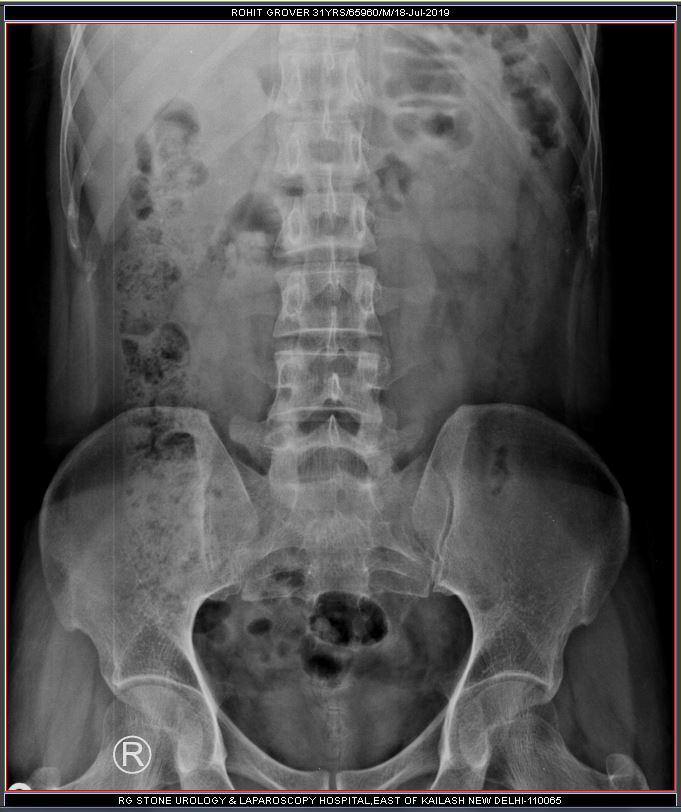bladder: (240, 672, 421, 771)
vertebrae: (266, 117, 370, 186)
